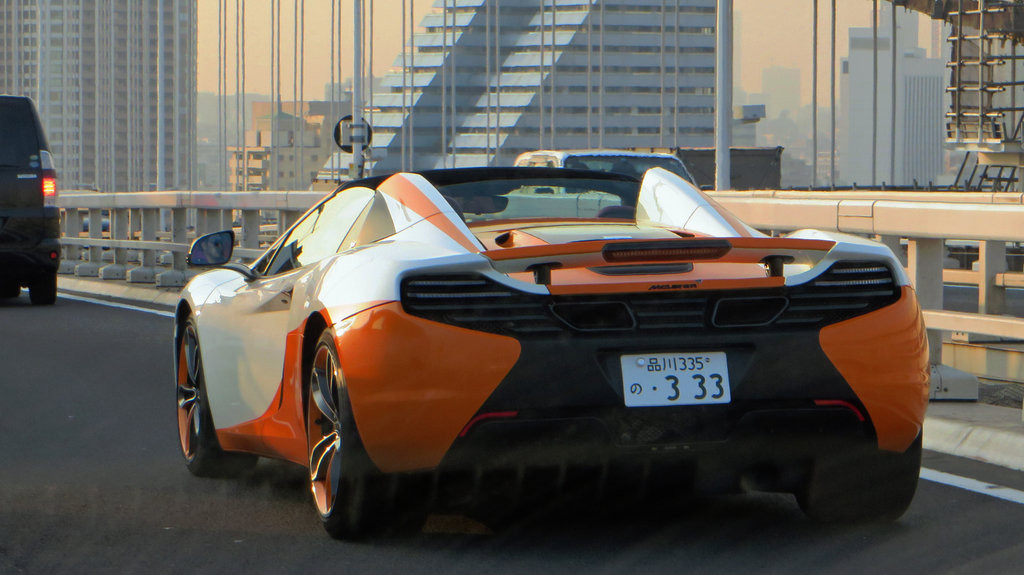Car: (172, 167, 929, 542), (0, 94, 59, 305), (511, 149, 713, 190)
